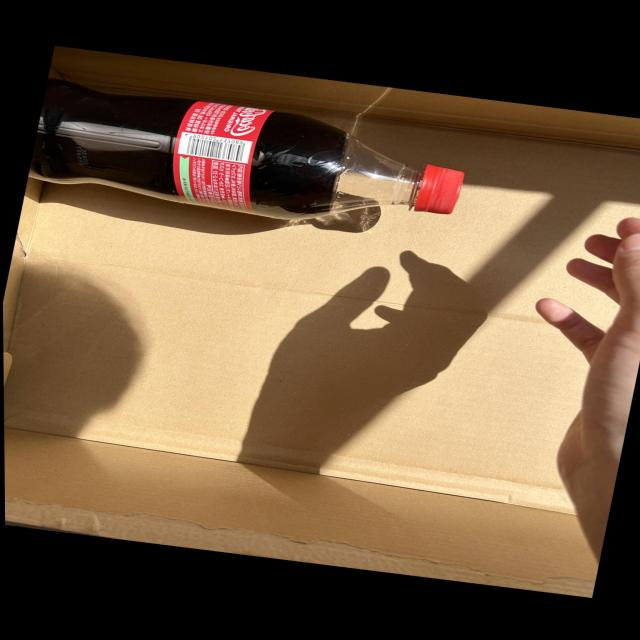high: (30, 78, 464, 220)
